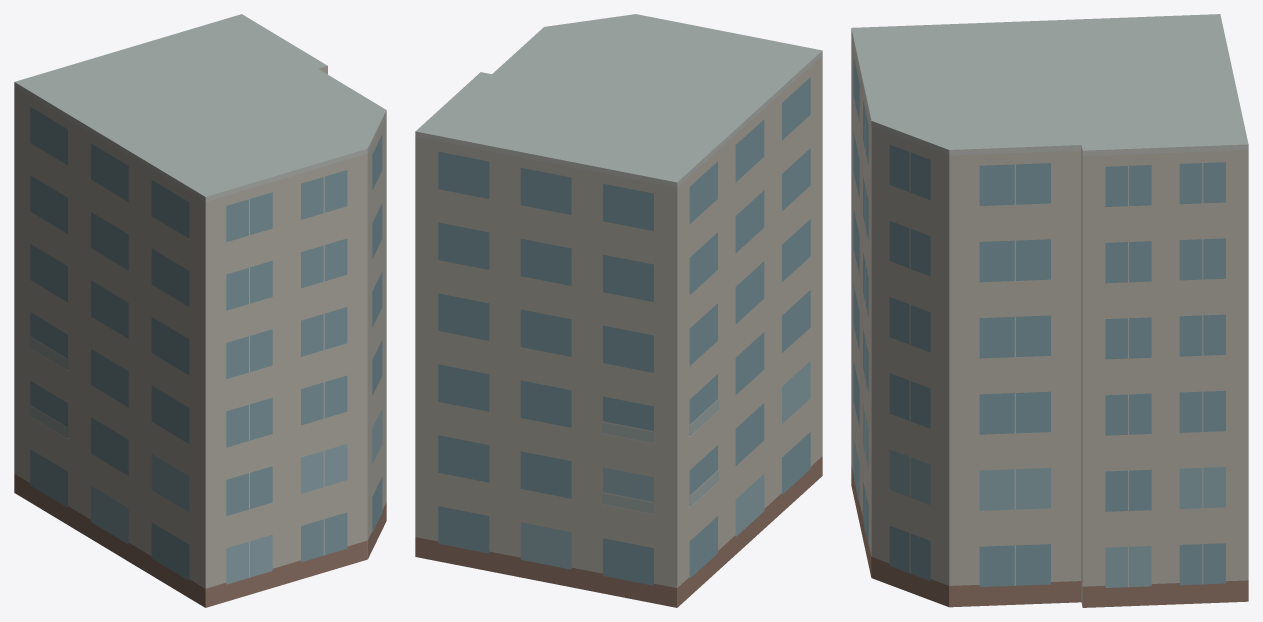
The model's file is survey-upis-32851998.glb.
The picture shows the model from 3 angles, left to right: view 1: azimuth 30°, elevation 25°; view 2: azimuth 150°, elevation 25°; view 3: azimuth 270°, elevation 25°; orthographic projection. The views are drawn at different scales.
Parts seen in each view (by area): view 1: survey-upis-32851998.tmp; view 2: survey-upis-32851998.tmp; view 3: survey-upis-32851998.tmp.
Part boxes in pixels (<box>): survey-upis-32851998.tmp: <box>14,14,386,607</box>; survey-upis-32851998.tmp: <box>415,14,822,607</box>; survey-upis-32851998.tmp: <box>851,14,1248,607</box>.
Bounding box in the file's own units: 13.09 × 20.4 × 16.07.
